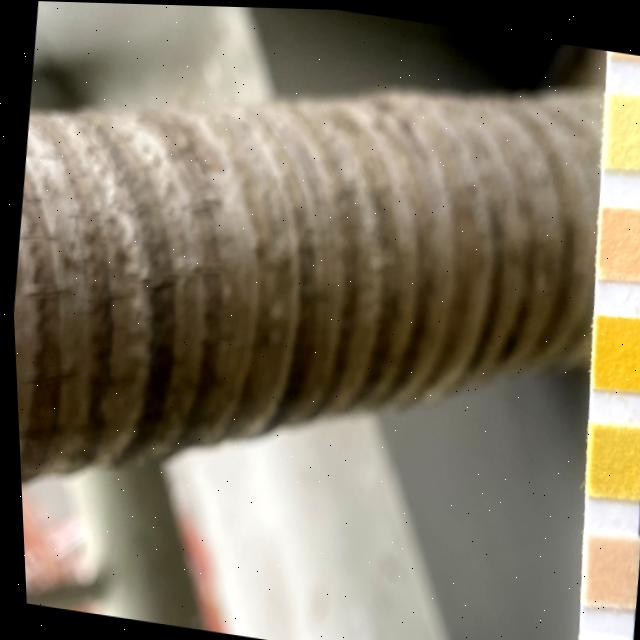Bilirubin: (570, 632, 626, 640)
Blood: (586, 310, 640, 388)
Ketone: (573, 528, 636, 606)
Protein: (599, 89, 640, 166)
SpGravity: (579, 419, 640, 497)
pH: (592, 203, 640, 280)
